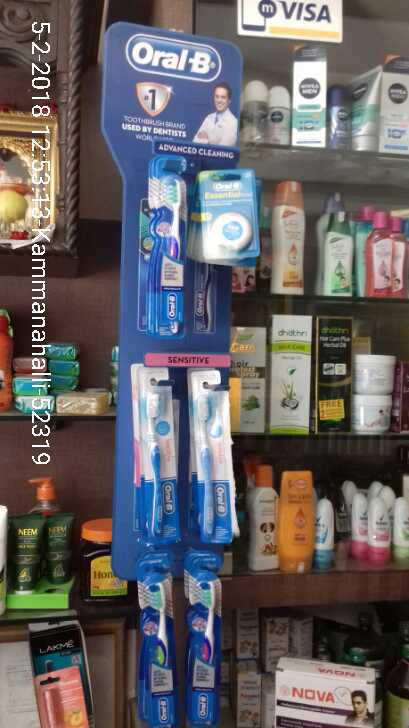oralb: (137, 364, 178, 543), (195, 372, 237, 541), (148, 163, 186, 339), (186, 575, 228, 722), (198, 170, 262, 257), (144, 566, 179, 724)
